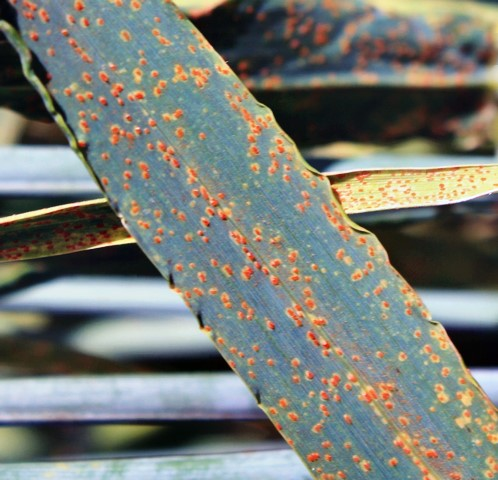Leaf Rust: (59, 9, 477, 470)
